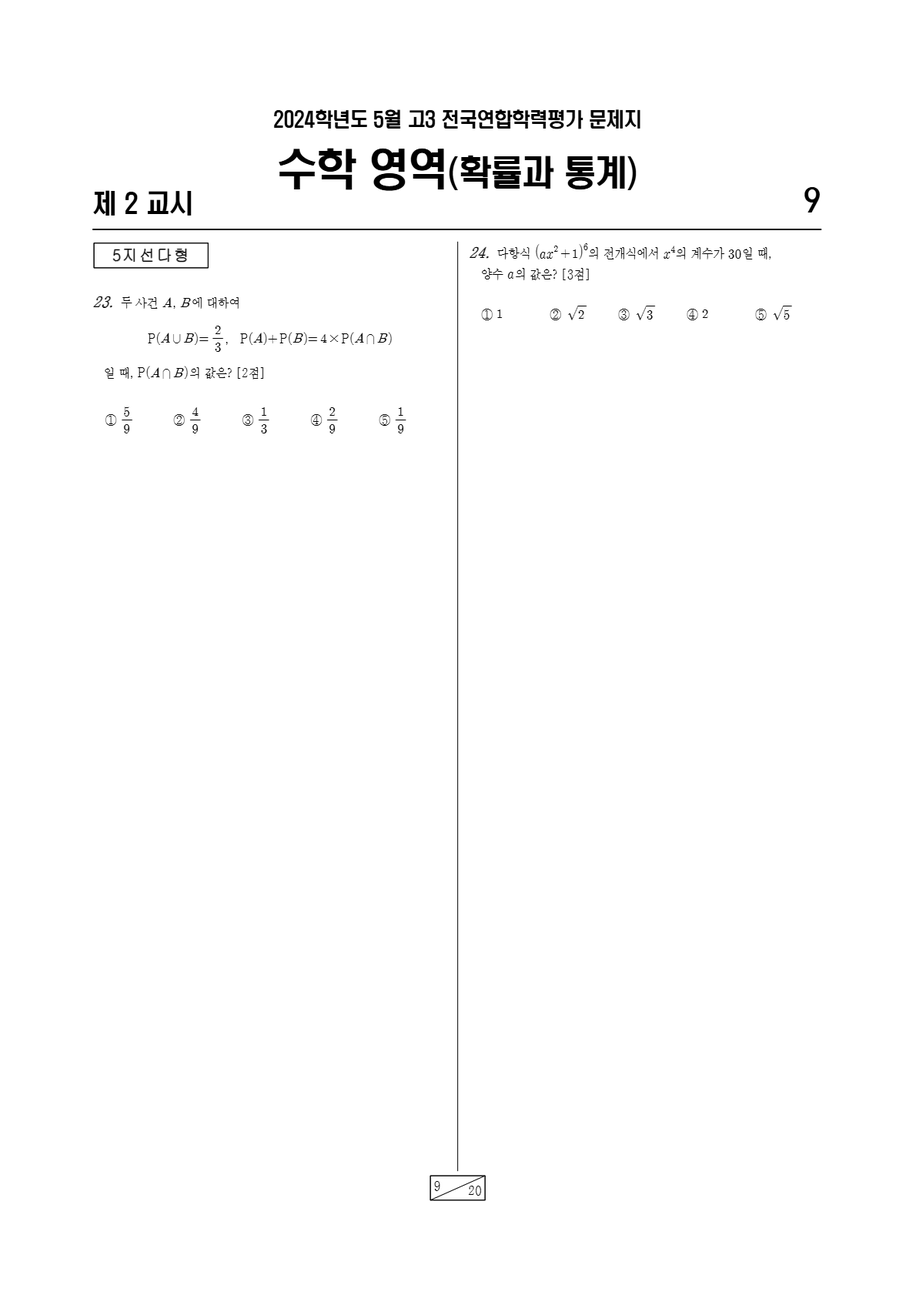opt_1: (104, 412, 118, 427), (481, 308, 493, 321)
opt_2: (173, 413, 185, 427), (550, 308, 562, 322)
opt_3: (242, 413, 254, 427), (618, 307, 629, 321)
opt_4: (310, 413, 323, 427), (687, 307, 697, 321)
opt_5: (755, 307, 767, 322), (379, 413, 389, 427)
